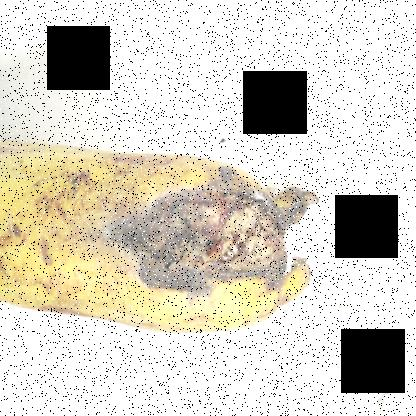ripe: (0, 118, 309, 345)
rotten: (115, 155, 332, 312)
